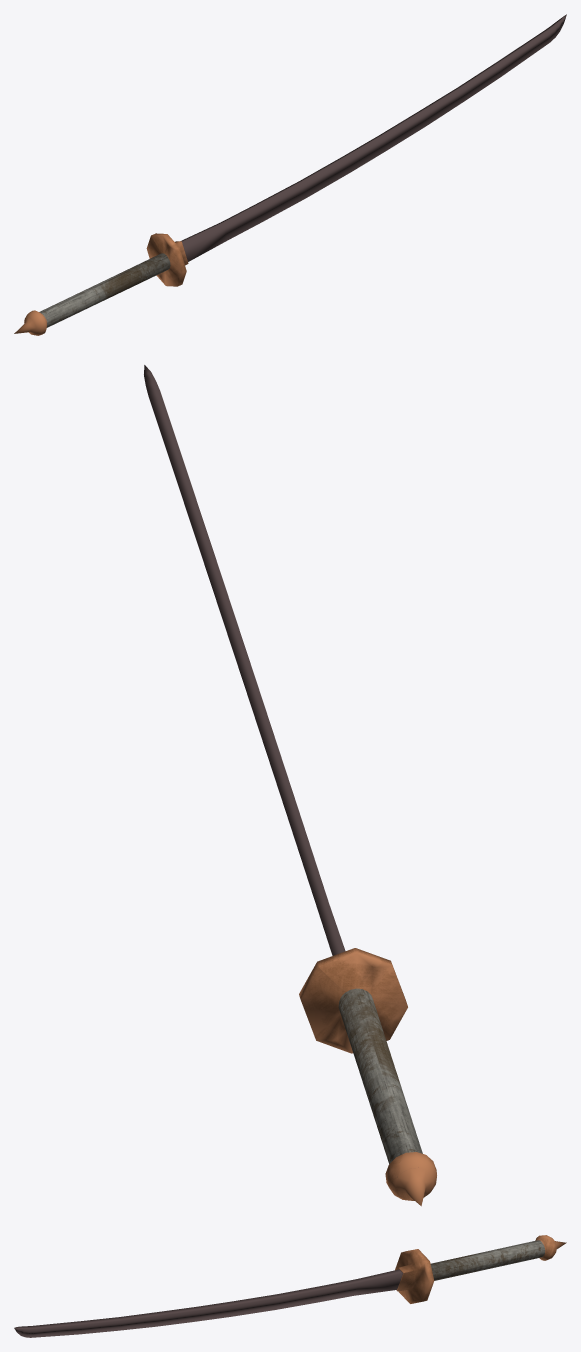
Rendered from Anim_idle_katana_objetos.0045.obj.
3 renders of one model, top to bottom at view 1: azimuth 90°, elevation 25°; view 2: azimuth 150°, elevation 25°; view 3: azimuth 270°, elevation 25°, orthographic. The views are drawn at different scales.
Visible parts, largest first — view 1: Katana1; view 2: Katana1; view 3: Katana1.
Boxes of the visible parts, x1,y1,x2,y2 form: Katana1: (14, 14, 566, 335); Katana1: (144, 365, 436, 1206); Katana1: (14, 1235, 566, 1337).
Bounding box in the file's own units: 3.45 × 1 × 3.99.
